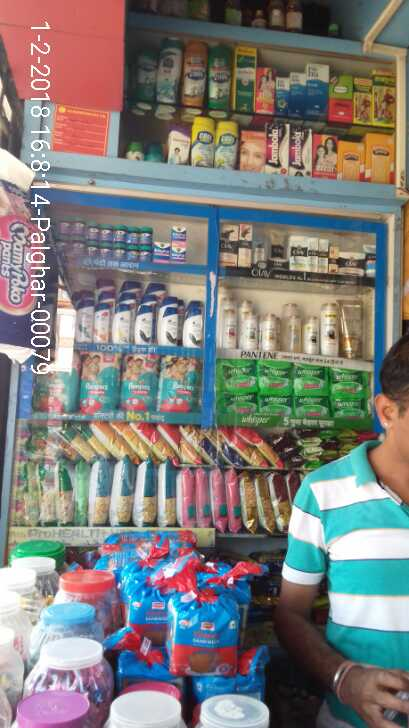vicks: (53, 216, 187, 263)
